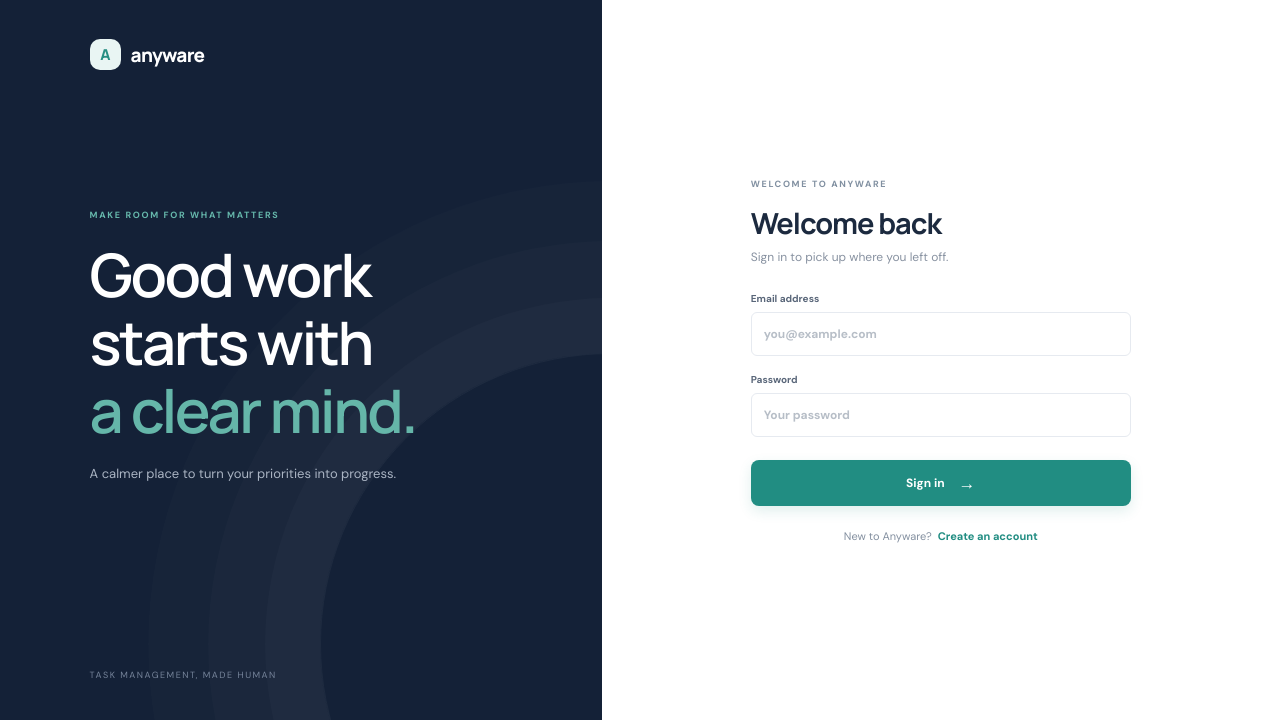
it: authentication forms › validates required login fields before making an API request
Click the button "Sign in →": (941, 482) [751,460,1131,506]
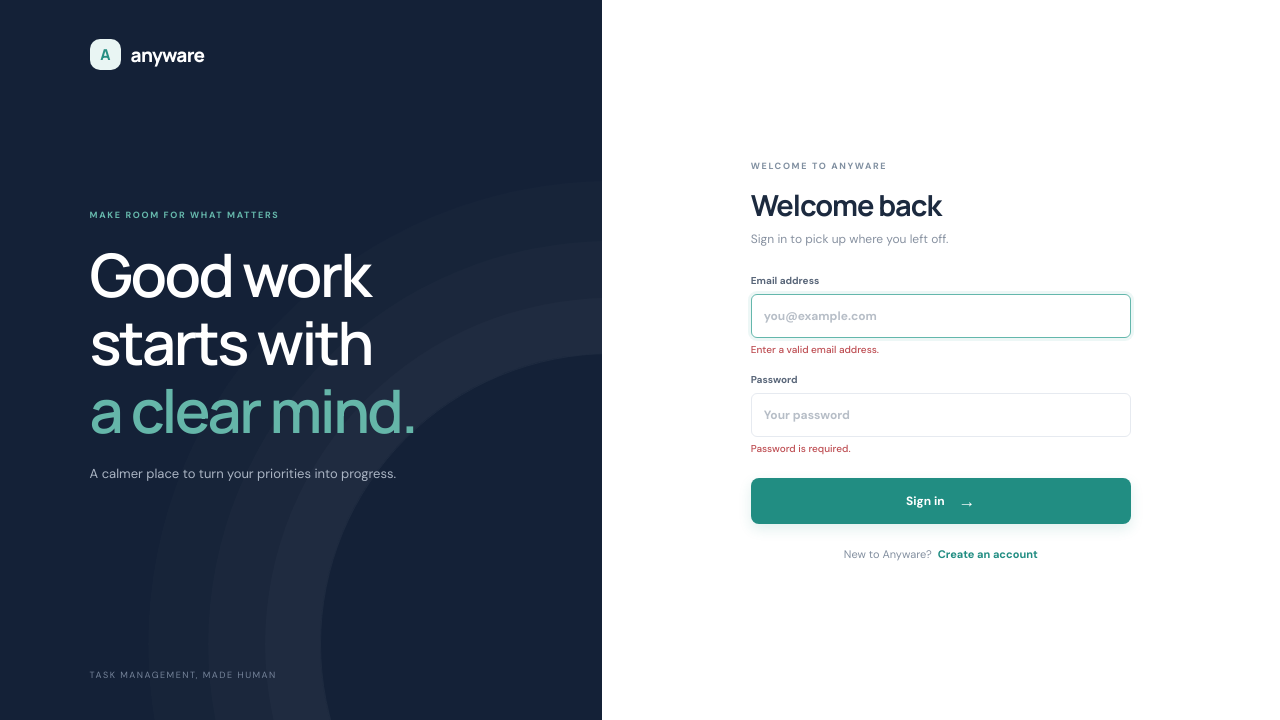
Now the text "Enter a valid email address." is shown, box [751,342,879,356]
Now the text "Password is required." is shown, box [751,442,851,454]
